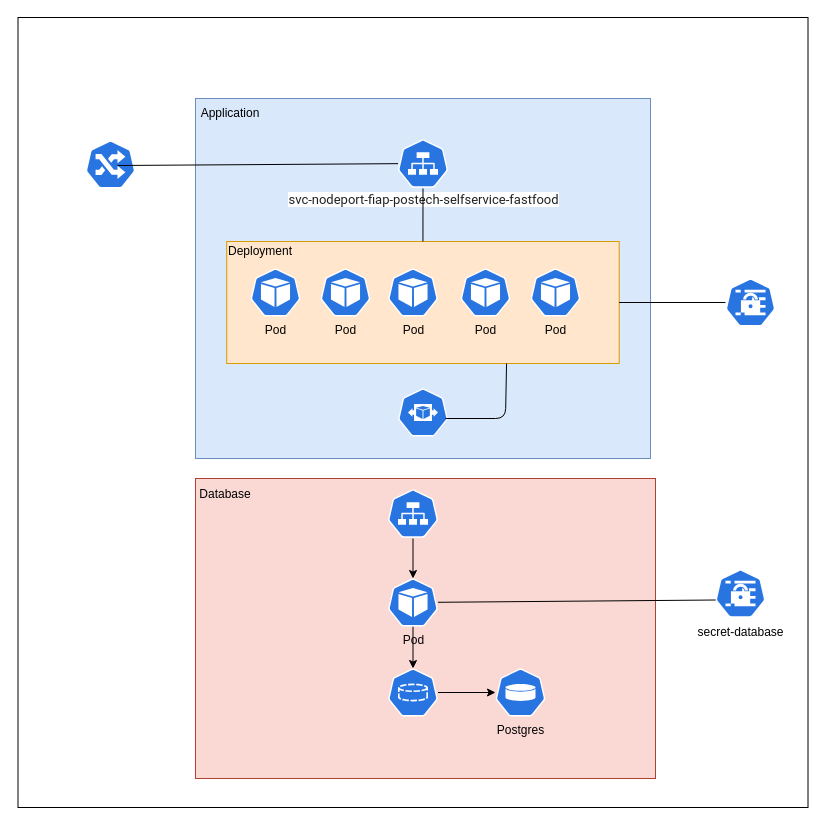
Image size: 825x825. Some labels were removed from this diagram. Each missing label, with the centre of its shape:
"application-ingress" goes at [110,164].
"HPA" goes at [422,412].
"secret-deployment" goes at [750,302].
"service-pod-pvc-pv" goes at [412,692].
"SVC" goes at [412,513].
